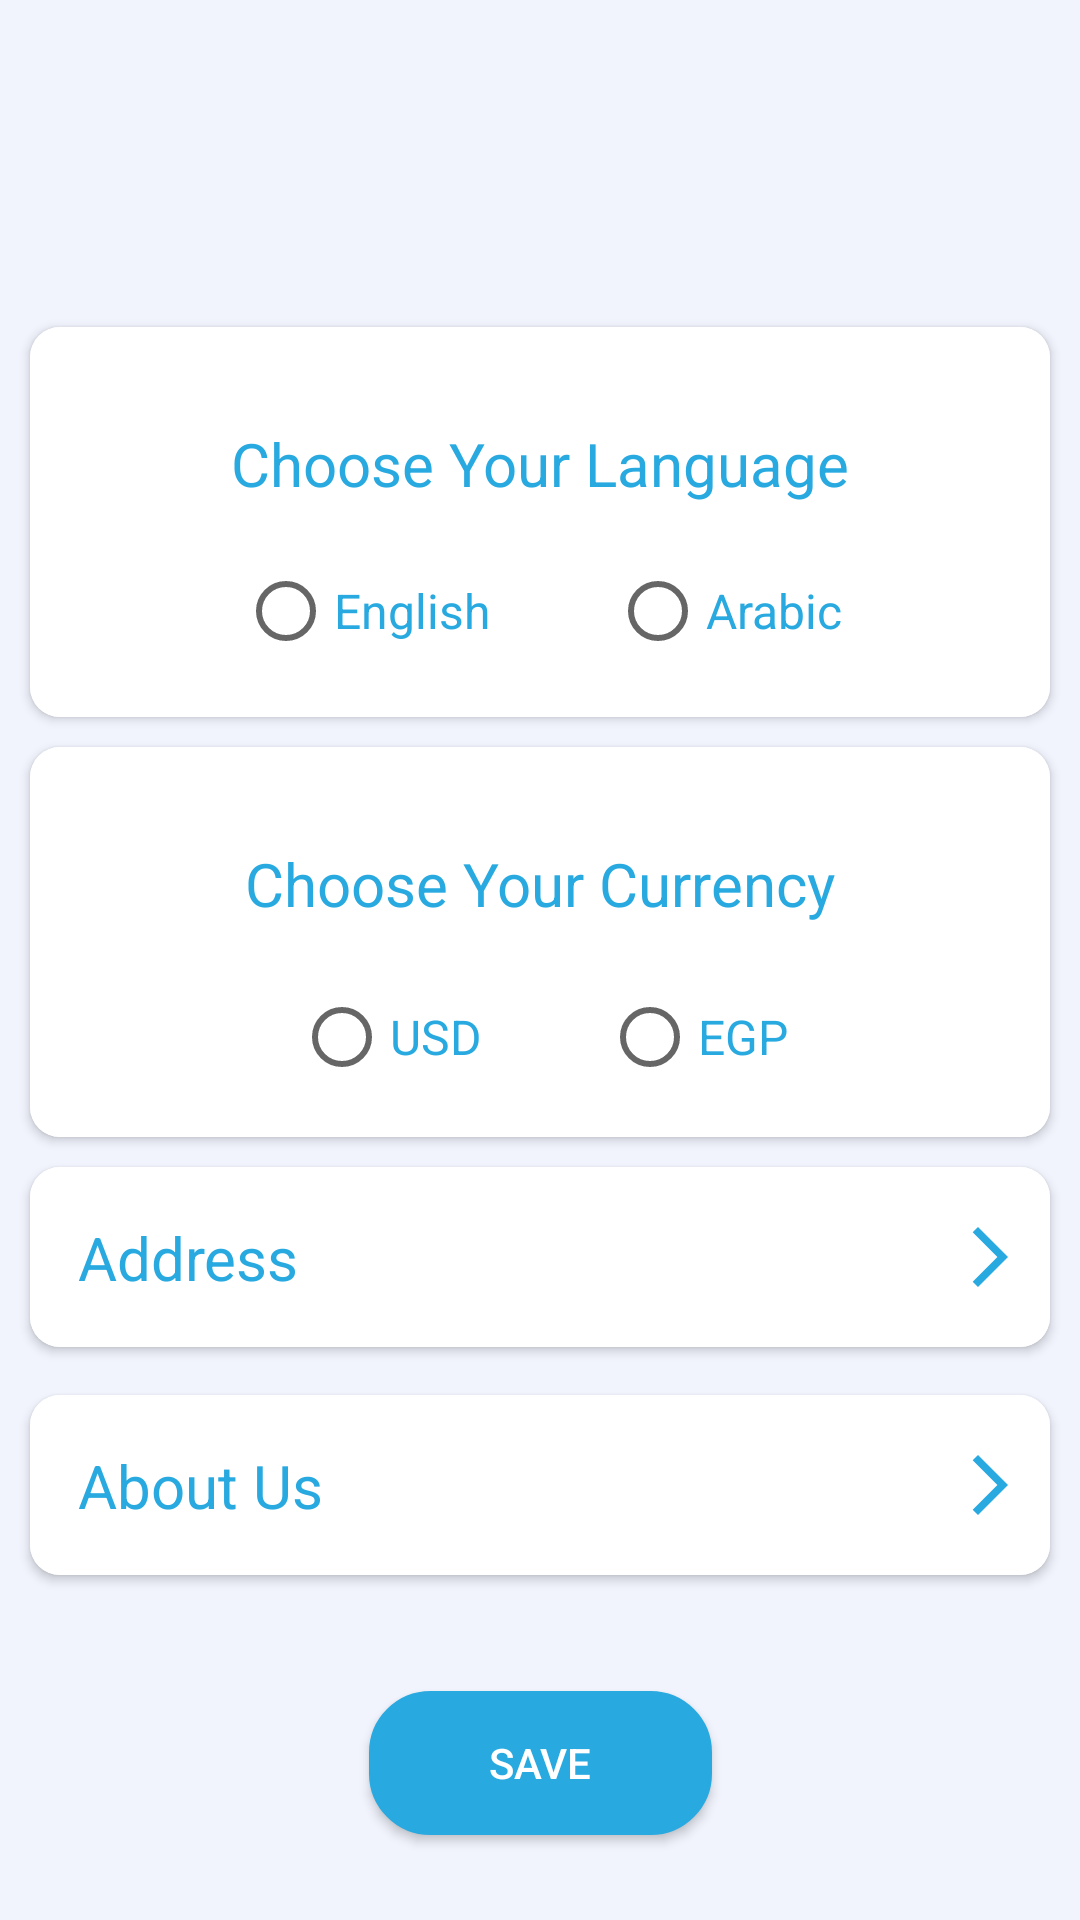

Locate icon controls on the screen. Image size 1080 × 1920, boxes as (x1, y1, x2, y2).
arrow forward: (973, 1227, 1008, 1287), (973, 1455, 1008, 1515)
